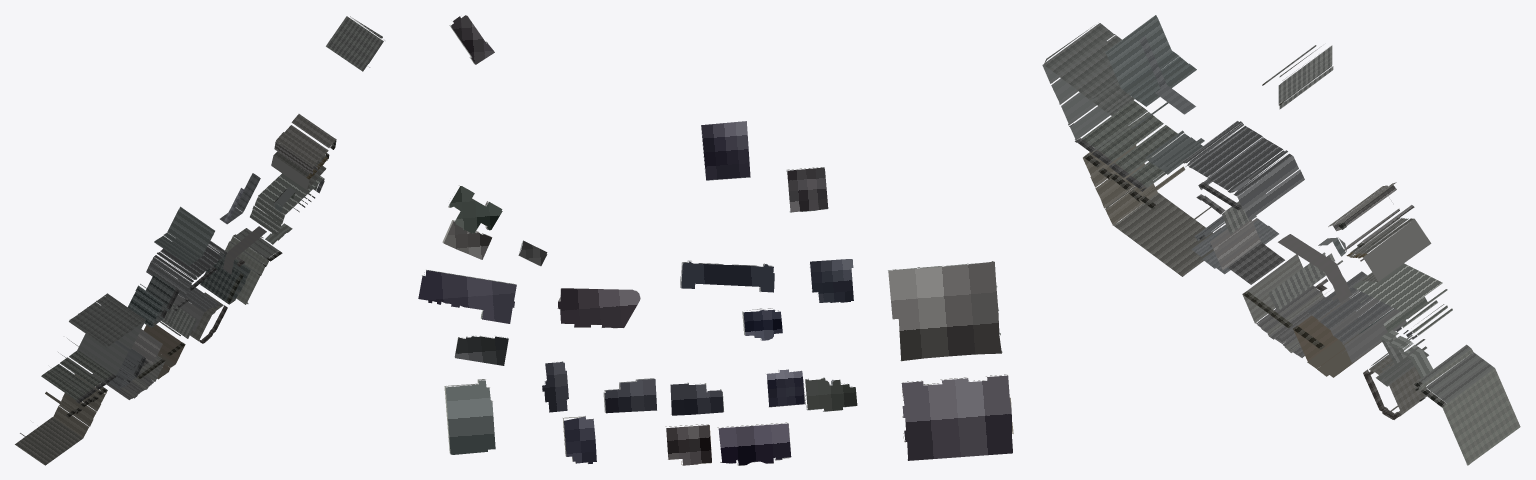
File: tile_LOD3_r3_c6.glb
The picture shows the model from 3 angles, left to right: view 1: azimuth 30°, elevation 25°; view 2: azimuth 150°, elevation 25°; view 3: azimuth 270°, elevation 25°; orthographic projection. The views are drawn at different scales.
Size of the model in its own units: 367 by 269 by 245.
111 materials, 110 textured.
